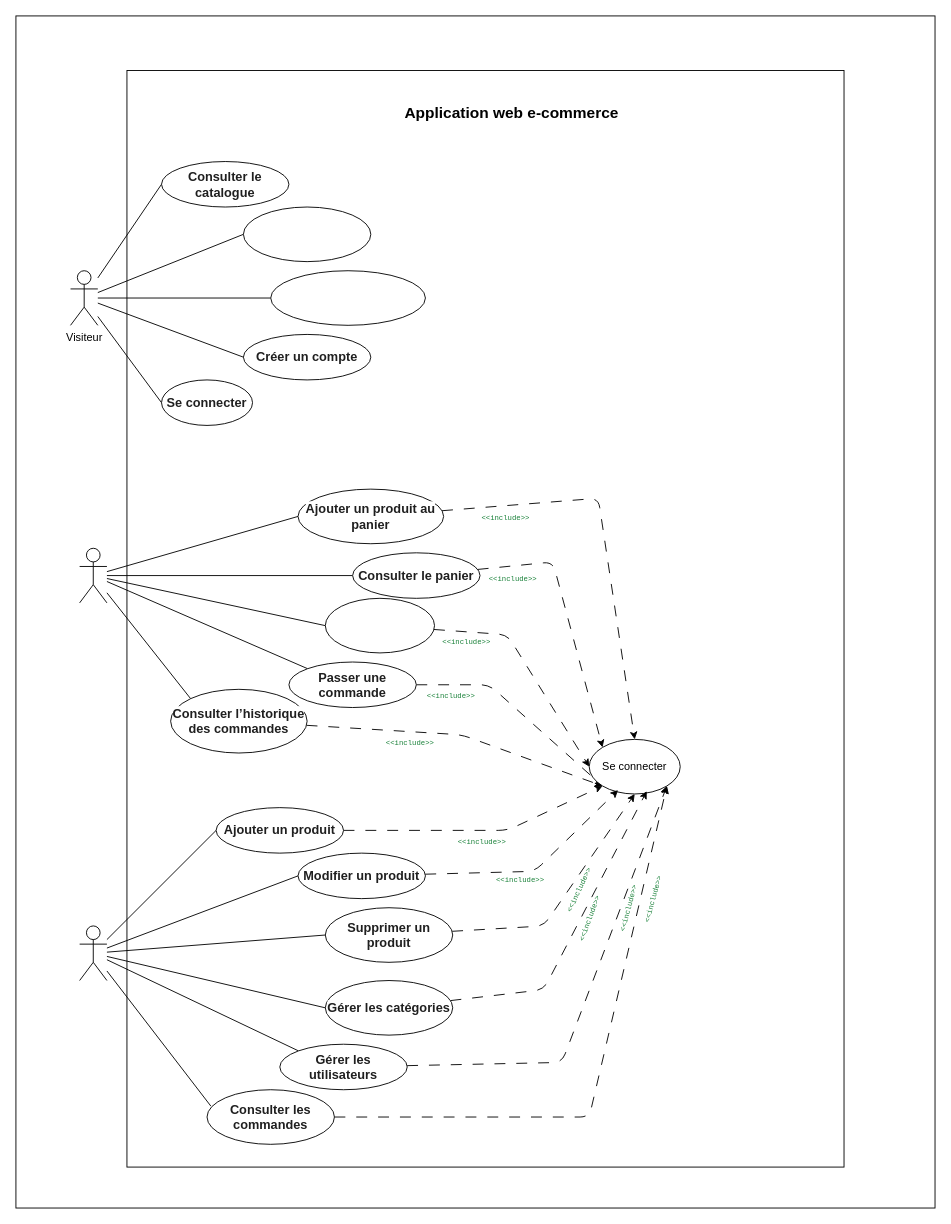
Image size: 951x1224. Some labels were removed from this diagram. Here are the shapes that lost their labels. From the top down, the centre of each, then its label:
(307,234): Consulter le détail d’un produit
(347,297): Filtrer les produits par catégorie
(93,575): Client
(379,625): Modifier le panier
(93,953): Actor
